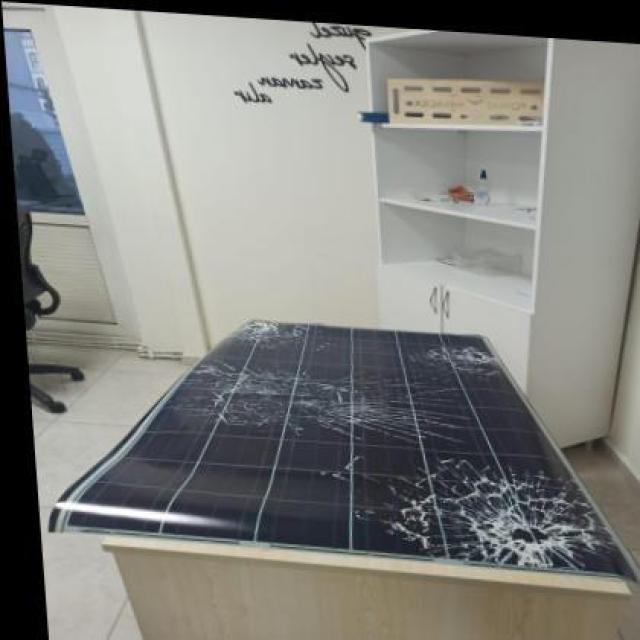cracked: (68, 315, 618, 576)
